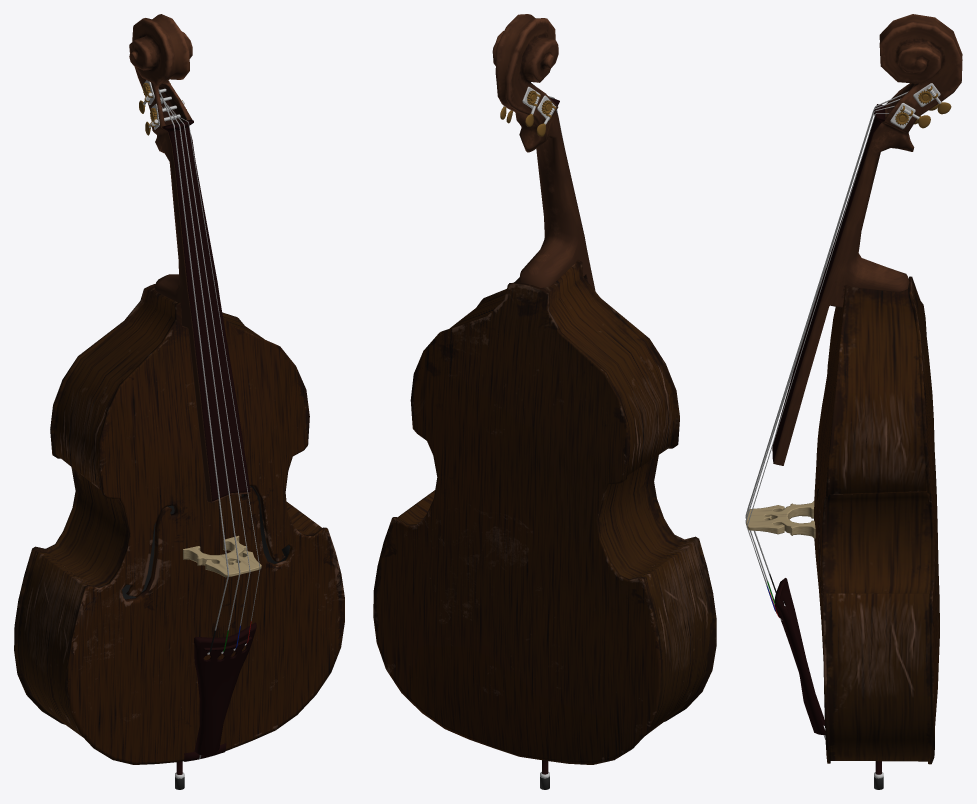
Rendered from double-bass.glb.
The picture shows the model from 3 angles, left to right: view 1: azimuth 30°, elevation 25°; view 2: azimuth 150°, elevation 25°; view 3: azimuth 270°, elevation 25°; orthographic projection. The views are drawn at different scales.
Visible parts, largest first — view 1: body_chek_0_0, grif top_chek_0_14, grif_chek_0_12, rif bottom_chek_0_22, holder_chek_0_16, strings.001_chek_0_26, strings.002_chek_0_28, strings.003_chek_0_30, strings.004_chek_0_32; view 2: body_chek_0_0, grif_chek_0_12; view 3: body_chek_0_0, grif_chek_0_12, rif bottom_chek_0_22, grif top_chek_0_14, holder_chek_0_16, strings.002_chek_0_28, strings.003_chek_0_30, strings.004_chek_0_32, colk_chek_0_4, colk.001_chek_0_6.
Boxes of the visible parts, bbox=[...] form: body_chek_0_0: bbox=[14, 284, 344, 764]; grif top_chek_0_14: bbox=[162, 119, 250, 501]; grif_chek_0_12: bbox=[129, 14, 250, 502]; rif bottom_chek_0_22: bbox=[194, 622, 256, 756]; holder_chek_0_16: bbox=[183, 535, 261, 577]; strings.001_chek_0_26: bbox=[158, 89, 228, 654]; strings.002_chek_0_28: bbox=[160, 97, 240, 653]; strings.003_chek_0_30: bbox=[164, 105, 250, 650]; strings.004_chek_0_32: bbox=[171, 113, 260, 644]; body_chek_0_0: bbox=[373, 260, 716, 764]; grif_chek_0_12: bbox=[492, 14, 595, 291]; body_chek_0_0: bbox=[814, 276, 939, 764]; grif_chek_0_12: bbox=[773, 14, 962, 465]; rif bottom_chek_0_22: bbox=[774, 578, 825, 734]; grif top_chek_0_14: bbox=[772, 104, 885, 461]; holder_chek_0_16: bbox=[746, 501, 815, 538]; strings.002_chek_0_28: bbox=[745, 98, 900, 604]; strings.003_chek_0_30: bbox=[745, 106, 894, 611]; strings.004_chek_0_32: bbox=[747, 113, 888, 620]; colk_chek_0_4: bbox=[890, 103, 930, 128]; colk.001_chek_0_6: bbox=[913, 83, 951, 114].
Size of the model in its own units: 98.87 by 258 by 65.83.
Materials: 1 (1 with a texture image).
